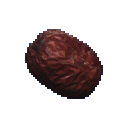gd: (14, 17, 111, 109)
